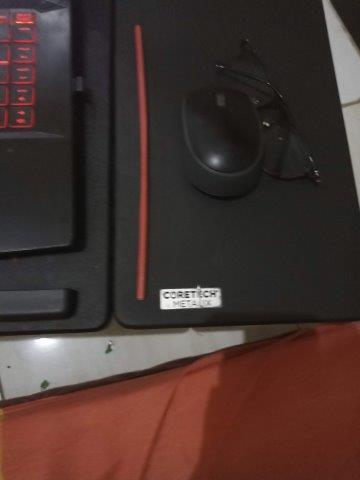sedotan: (134, 25, 148, 300)
